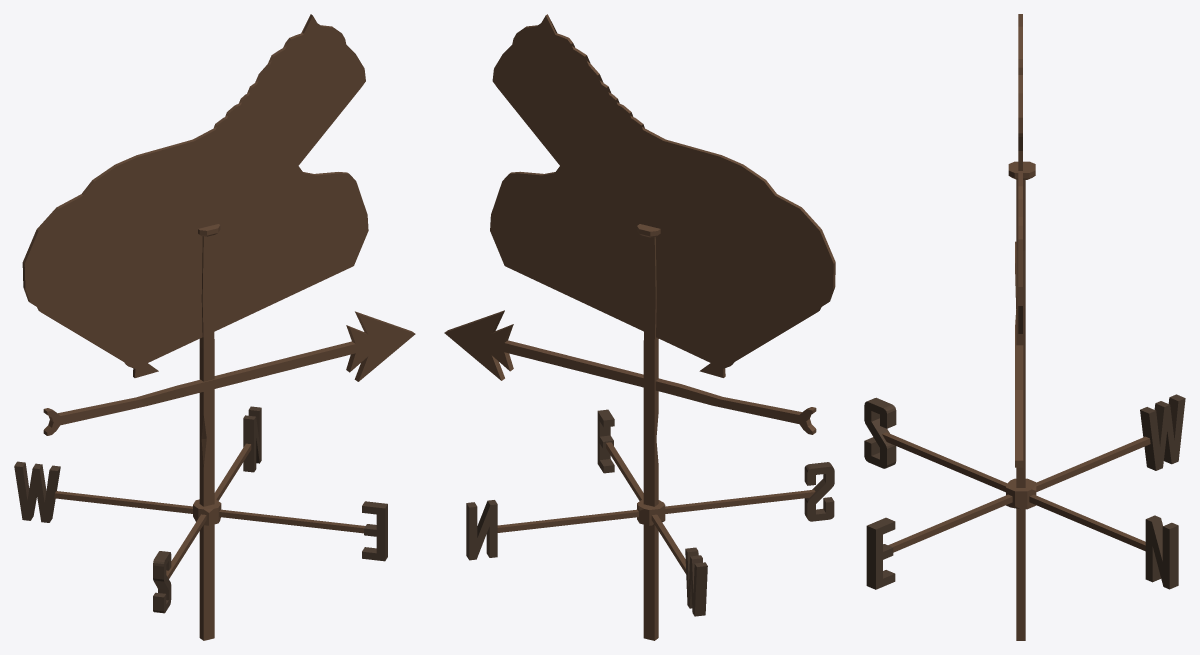
Rendered from SM_Props_Farm_Weathervane.fbx.
The picture shows the model from 3 angles, left to right: view 1: azimuth 30°, elevation 25°; view 2: azimuth 150°, elevation 25°; view 3: azimuth 270°, elevation 25°; orthographic projection. The views are drawn at different scales.
Parts seen in each view (by area): view 1: SM_Props_Farm_Weathervane; view 2: SM_Props_Farm_Weathervane; view 3: SM_Props_Farm_Weathervane.
Boxes of the visible parts, x1=… form: SM_Props_Farm_Weathervane: x1=14, y1=14, x2=415, y2=640; SM_Props_Farm_Weathervane: x1=444, y1=14, x2=835, y2=640; SM_Props_Farm_Weathervane: x1=864, y1=14, x2=1185, y2=640.
Size of the model in its own units: 87.78 by 129 by 54.95.
